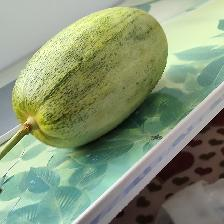gua: (33, 23, 139, 132)
